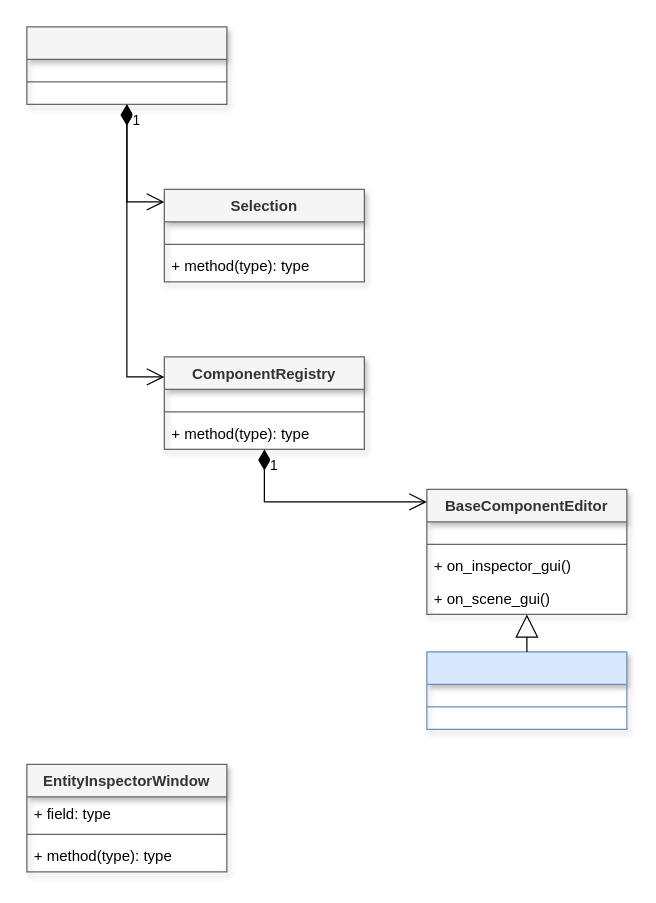
Image size: 656x903. Some labels were removed from this diagram. The centre of each missing label's shape, as x and y in pixels:
"SceneEditor" goes at (x=127, y=67).
"YourComponentEditor" goes at (x=527, y=692).
